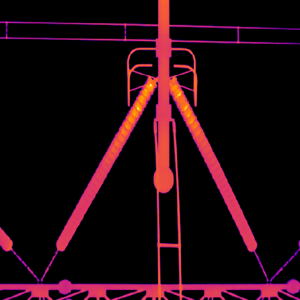insulator: (55, 74, 157, 251), (168, 76, 257, 250)
